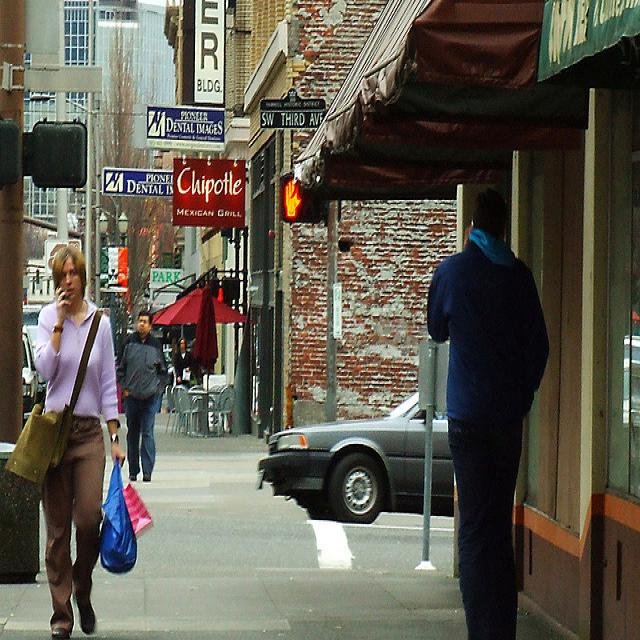Vehicle: (255, 386, 454, 522), (20, 323, 37, 418)
